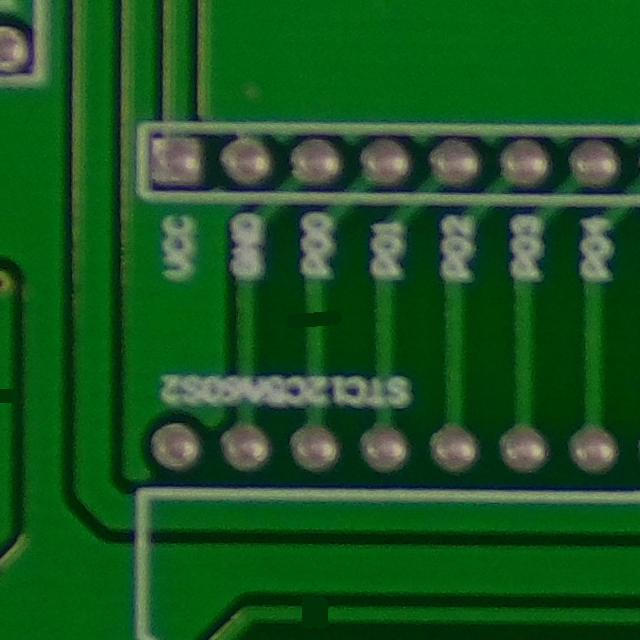open_circuit: (294, 305, 346, 336)
